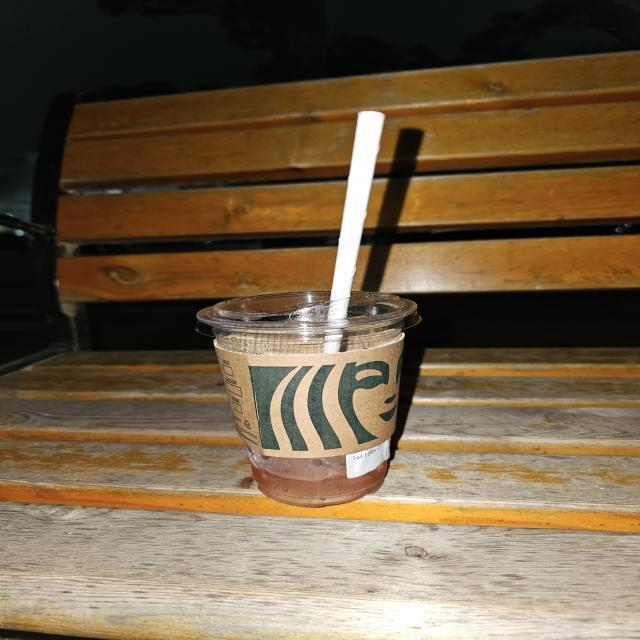cup: (186, 288, 436, 510)
